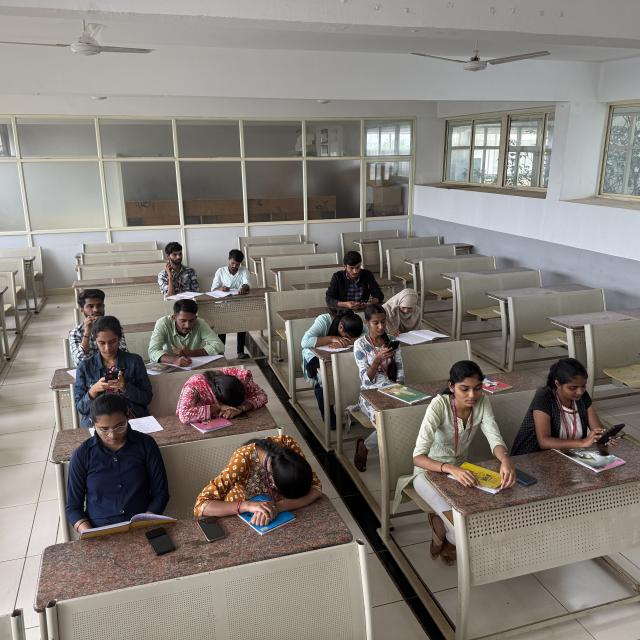Reading: (61, 402, 181, 538)
Sleeping: (202, 436, 326, 517), (174, 363, 268, 424), (298, 308, 366, 352)
Using Phone: (528, 354, 629, 454), (72, 313, 157, 414), (355, 305, 405, 382), (322, 250, 383, 309), (156, 240, 205, 292)
Writing: (151, 298, 227, 368), (383, 287, 443, 346), (213, 250, 256, 300)
